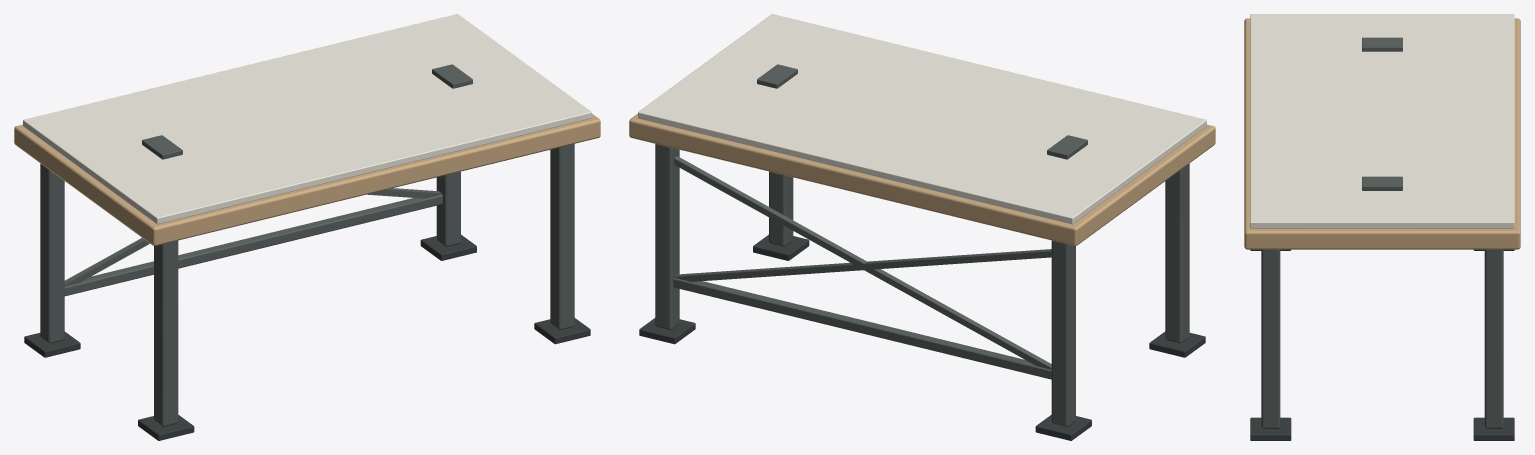
File: public-library-and-reading-garden-public-library-and-r-a574058c__30920.glb
3 renders of one model, left to right at view 1: azimuth 30°, elevation 25°; view 2: azimuth 150°, elevation 25°; view 3: azimuth 270°, elevation 25°, orthographic.
Parts seen in each view (by area): view 1: public-library-and-reading-garden-reading-table; view 2: public-library-and-reading-garden-reading-table; view 3: public-library-and-reading-garden-reading-table.
Boxes of the visible parts, left/top/right/bottom form: public-library-and-reading-garden-reading-table: left=14, top=14, right=600, bottom=440; public-library-and-reading-garden-reading-table: left=629, top=14, right=1215, bottom=440; public-library-and-reading-garden-reading-table: left=1244, top=14, right=1520, bottom=440.
Bounding box in the file's own units: 1.73 × 0.8479 × 0.9401.
